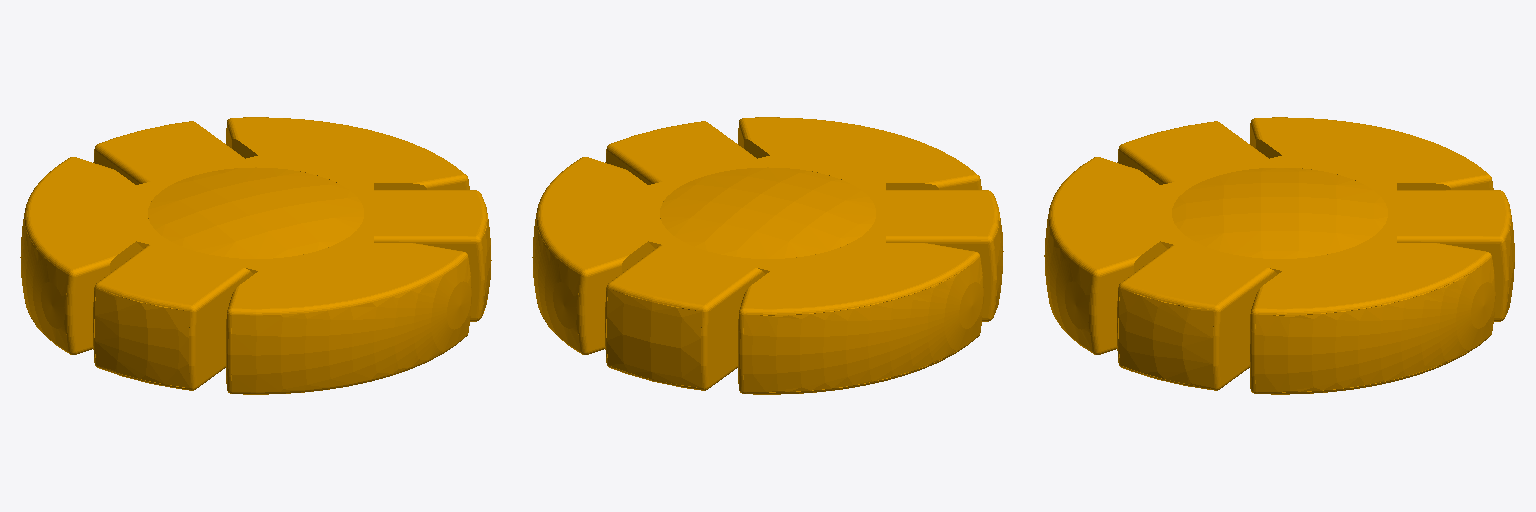
robot.urdf — hopter_simple:
<?xml version='1.0'?>
<robot name="hopter_simple">
	
	<link name='body'>
		<inertial>
			<origin xyz="0 0 0" rpy="0 0 0"/>
			<mass value="10.0"/>
			<inertia ixx="0.1" ixy="0.0" ixz="0.0" iyy="0.1" iyz="0.0" izz="0.1" />
		</inertial>
		<collision name='body_collision'>
			<origin xyz="0 0 0" rpy="0 0 0"/>
			<geometry>
				<mesh filename="package://galago_gazebo_models/meshes/hopter/disk.dae"/>
			</geometry>
		</collision>
		<visual name='body_visual'>
			<origin xyz="0 0 0" rpy="0 0 0"/>
			<geometry>
				<mesh filename="package://galago_gazebo_models/meshes/hopter/disk.dae"/>
			</geometry>
			<material name="orange"/>
		</visual>
		<gazebo>
			<static>false</static>
			<gravity>true</gravity>
			<self_collide>false</self_collide>
			<kinematic>false</kinematic>
			<velocity_decay>
				
				<linear>0.0</linear>
				<angular>0.0</angular>
			</velocity_decay>
			<max_contacts>250</max_contacts>
			<surface>
				<friction>
					<ode>
						<mu>0.2</mu>
						<mu2>0.2</mu2>
						<fdir1>1.0 0 0</fdir1>
						<slip1>0</slip1>
						<slip2>0</slip2>
					</ode>
				</friction>
				<contact>
					<ode>
						<kp>111.1111</kp>
						<kd>0.0</kd>
						<max_vel>10000.0</max_vel>
						<min_depth>0.0</min_depth>
					</ode>
				</contact>
			</surface>
		</gazebo>
	</link>
	
	
	<!--link name="cam_a_link">
		<visual>
			<origin xyz="0 0 0" rpy="0 0 0" />
			<geometry>
				<box size="0.1 0.1 0.1"/>
			</geometry>
			<material name="orange">
				<color rgba="0.8 0.2 0.2 1.0"/>
			</material>
		</visual>
	</link>
	
	<joint name="cam_a_joint" type="fixed">
		<origin rpy="0 0 3.1416" xyz="-0.5 0 0.5"/>
		<parent link="body"/>
		<child link="cam_a_link"/>
	</joint>
	
	<gazebo reference="cam_a_link">
		<sensor type="camera" name="camera_camera_sensor">
			<update_rate>30.0</update_rate>
			<camera>
				<pose>0 0 0 0 0 0</pose>
				<horizontal_fov>1.047</horizontal_fov>
				<image>
					<format>R8G8B8</format>
					<width>1024</width>
					<height>1024</height>
				</image>
				<clip>
					<near>0.01</near>
					<far>100</far>
				</clip>
			</camera>
			
			<plugin name="camera_camera_controller" filename="libgazebo_ros_camera.so">
				<alwaysOn>true</alwaysOn>
				<updateRate>30.0</updateRate>
				<cameraName>body_sensor/cam_a</cameraName>
				<imageTopicName>image_raw</imageTopicName>
				<cameraInfoTopicName>camera_info</cameraInfoTopicName>
				<frameName>cam_a</frameName>
				<robotNamespace>galago_simple</robotNamespace>
				<hackBaseline>0.07</hackBaseline>
				<distortionK1>0.0</distortionK1>
				<distortionK2>0.0</distortionK2>
				<distortionK3>0.0</distortionK3>
				<distortionT1>0.0</distortionT1>
				<distortionT2>0.0</distortionT2>
			</plugin>
		</sensor>
	</gazebo>
	
	<link name="cam_b_link">
		<visual>
			<origin xyz="0 0 0" rpy="0 0 0" />
			<geometry>
				<box size="0.1 0.1 0.1"/>
			</geometry>
			<material name="orange">
				<color rgba="0.8 0.2 0.2 1.0"/>
			</material>
		</visual>
	</link>
	
	<joint name="cam_b_joint" type="fixed">
		<origin rpy="0 0 -1.0472" xyz="0.25 -0.433 0.5"/>
		<parent link="body"/>
		<child link="cam_b_link"/>
	</joint>
	
	<gazebo reference="cam_b_link">
		<sensor type="camera" name="camera_camera_sensor">
			<update_rate>30.0</update_rate>
			<camera>
				<pose>0 0 0 0 0 0</pose>
				<horizontal_fov>1.047</horizontal_fov>
				<image>
					<format>R8G8B8</format>
					<width>1024</width>
					<height>1024</height>
				</image>
				<clip>
					<near>0.01</near>
					<far>100</far>
				</clip>
			</camera>
			
			<plugin name="camera_camera_controller" filename="libgazebo_ros_camera.so">
				<alwaysOn>true</alwaysOn>
				<updateRate>30.0</updateRate>
				<cameraName>body_sensor/cam_b</cameraName>
				<imageTopicName>image_raw</imageTopicName>
				<cameraInfoTopicName>camera_info</cameraInfoTopicName>
				<frameName>cam_b</frameName>
				<robotNamespace>galago_simple</robotNamespace>
				<hackBaseline>0.07</hackBaseline>
				<distortionK1>0.0</distortionK1>
				<distortionK2>0.0</distortionK2>
				<distortionK3>0.0</distortionK3>
				<distortionT1>0.0</distortionT1>
				<distortionT2>0.0</distortionT2>
			</plugin>
		</sensor>
	</gazebo>
	
	<link name="cam_c_link">
		<visual>
			<origin xyz="0 0 0" rpy="0 0 0" />
			<geometry>
				<box size="0.1 0.1 0.1"/>
			</geometry>
			<material name="orange">
				<color rgba="0.8 0.2 0.2 1.0"/>
			</material>
		</visual>
	</link>
	
	<joint name="cam_c_joint" type="fixed">
		<origin rpy="0 0 1.0472" xyz="0.25 0.433 0.5"/>
		<parent link="body"/>
		<child link="cam_c_link"/>
	</joint>
	
	<gazebo reference="cam_c_link">
		<sensor type="camera" name="camera_camera_sensor">
			<update_rate>30.0</update_rate>
			<camera>
				<pose>0 0 0 0 0 0</pose>
				<horizontal_fov>1.047</horizontal_fov>
				<image>
					<format>R8G8B8</format>
					<width>1024</width>
					<height>1024</height>
				</image>
				<clip>
					<near>0.01</near>
					<far>100</far>
				</clip>
			</camera>
			
			<plugin name="camera_camera_controller" filename="libgazebo_ros_camera.so">
				<alwaysOn>true</alwaysOn>
				<updateRate>30.0</updateRate>
				<cameraName>body_sensor/cam_c</cameraName>
				<imageTopicName>image_raw</imageTopicName>
				<cameraInfoTopicName>camera_info</cameraInfoTopicName>
				<frameName>cam_c</frameName>
				<robotNamespace>galago_simple</robotNamespace>
				<hackBaseline>0.07</hackBaseline>
				<distortionK1>0.0</distortionK1>
				<distortionK2>0.0</distortionK2>
				<distortionK3>0.0</distortionK3>
				<distortionT1>0.0</distortionT1>
				<distortionT2>0.0</distortionT2>
			</plugin>
		</sensor>
	</gazebo>
	
	<link name="cam_down_link">
		<visual>
			<origin xyz="0 0 0" rpy="0 0 0" />
			<geometry>
				<box size="0.1 0.1 0.1"/>
			</geometry>
			<material name="orange">
				<color rgba="0.8 0.2 0.2 1.0"/>
			</material>
		</visual>
	</link>
	
	<joint name="cam_down_joint" type="fixed">
		<origin rpy="0 1.57 0" xyz="0.0 0.0 0.5"/>
		<parent link="body"/>
		<child link="cam_down_link"/>
	</joint>
	
	<gazebo reference="cam_down_link">
		<sensor type="camera" name="camera_camera_sensor">
			<update_rate>30.0</update_rate>
			<camera>
				<pose>0 0 0 0 0 0</pose>
				<horizontal_fov>1.047</horizontal_fov>
				<image>
					<format>R8G8B8</format>
					<width>1024</width>
					<height>1024</height>
				</image>
				<clip>
					<near>0.01</near>
					<far>100</far>
				</clip>
			</camera>
			
			<plugin name="camera_camera_controller" filename="libgazebo_ros_camera.so">
				<alwaysOn>true</alwaysOn>
				<updateRate>30.0</updateRate>
				<cameraName>body_sensor/cam_down</cameraName>
				<imageTopicName>image_raw</imageTopicName>
				<cameraInfoTopicName>camera_info</cameraInfoTopicName>
				<robotNamespace>galago_simple</robotNamespace>
				<frameName>cam_down</frameName>
				<hackBaseline>0.07</hackBaseline>
				<distortionK1>0.0</distortionK1>
				<distortionK2>0.0</distortionK2>
				<distortionK3>0.0</distortionK3>
				<distortionT1>0.0</distortionT1>
				<distortionT2>0.0</distortionT2>
			</plugin>
		</sensor>
	</gazebo>
	
	<link name="cam_up_link">
		<visual>
			<origin xyz="0 0 0" rpy="0 0 0" />
			<geometry>
				<box size="0.1 0.1 0.1"/>
			</geometry>
			<material name="orange">
				<color rgba="0.8 0.2 0.2 1.0"/>
			</material>
		</visual>
	</link>
	
	<joint name="cam_up_joint" type="fixed">
		<origin rpy="0 -1.57 0" xyz="0.0 0.0 0.5"/>
		<parent link="body"/>
		<child link="cam_up_link"/>
	</joint>
	
	<gazebo reference="cam_up_link">
		<sensor type="camera" name="camera_camera_sensor">
			<update_rate>30.0</update_rate>
			<camera>
				<pose>0 0 0 0 0 0</pose>
				<horizontal_fov>1.047</horizontal_fov>
				<image>
					<format>R8G8B8</format>
					<width>1024</width>
					<height>1024</height>
				</image>
				<clip>
					<near>0.01</near>
					<far>100</far>
				</clip>
			</camera>
			
			<plugin name="camera_camera_controller" filename="libgazebo_ros_camera.so">
				<alwaysOn>true</alwaysOn>
				<updateRate>30.0</updateRate>
				<cameraName>body_sensor/cam_up</cameraName>
				<imageTopicName>image_raw</imageTopicName>
				<cameraInfoTopicName>camera_info</cameraInfoTopicName>
				<robotNamespace>galago_simple</robotNamespace>
				<frameName>cam_up</frameName>
				<hackBaseline>0.07</hackBaseline>
				<distortionK1>0.0</distortionK1>
				<distortionK2>0.0</distortionK2>
				<distortionK3>0.0</distortionK3>
				<distortionT1>0.0</distortionT1>
				<distortionT2>0.0</distortionT2>
			</plugin>
		</sensor>
	</gazebo>
	
	
	<gazebo>
		<plugin name="imu_plugin" filename="libgazebo_ros_imu.so">
			<alwaysOn>true</alwaysOn>
			<bodyName>body</bodyName>
			<topicName>imu_data</topicName>
			<serviceName>imu_service</serviceName>
			<gaussianNoise>0.0</gaussianNoise>
			<updateRate>30.0</updateRate>
			<xyzOffset>0 0 0</xyzOffset>
			<rpyOffset>0 0 0</rpyOffset>
			<frameName>world</frameName>
		</plugin>
	</gazebo>
	
	
	<gazebo>
		<plugin name="gazebo_ros_force" filename="libgazebo_ros_force.so">
			<alwaysOn>true</alwaysOn>
			<update>100</update>
			<updateRate>30.0</updateRate>
			<bodyName>body</bodyName>
			<topicName>force</topicName>
		</plugin>
	</gazebo-->
	
	<!-- stereo cam -->
	<!--gazebo reference="left_camera_frame"> <sensor type="multicamera" name="stereo_camera"> <update_rate>30.0</update_rate> <camera name="left"> <horizontal_fov>1.3962634</horizontal_fov> <image> <width>800</width> <height>800</height> <format>R8G8B8</format> </image> <clip> <near>0.02</near> <far>300</far> </clip> <noise> <type>gaussian</type> <mean>0.0</mean> <stddev>0.007</stddev> </noise> </camera> <camera name="right"> <pose>0 -0.07 0 0 0 0</pose> <horizontal_fov>1.3962634</horizontal_fov> <image> <width>800</width> <height>800</height> <format>R8G8B8</format> </image> <clip> <near>0.02</near> <far>300</far> </clip> <noise> <type>gaussian</type> <mean>0.0</mean> <stddev>0.007</stddev> </noise> </camera> <plugin name="stereo_camera_controller" filename="libgazebo_ros_multicamera.so"> <alwaysOn>true</alwaysOn> <updateRate>0.0</updateRate> <cameraName>multisense_sl/camera</cameraName> <imageTopicName>image_raw</imageTopicName> <cameraInfoTopicName>camera_info</cameraInfoTopicName> <frameName>left_camera_optical_frame</frameName>
		<<rightFrameName>right_camera_optical_frame</rightFrameName>> <hackBaseline>0.07</hackBaseline> <distortionK1>0.0</distortionK1> <distortionK2>0.0</distortionK2> <distortionK3>0.0</distortionK3> <distortionT1>0.0</distortionT1> <distortionT2>0.0</distortionT2> </plugin> </sensor> </gazebo-->
	
	<!-- depth cam - kinect -->
	<!--gazebo> <plugin name="${link_name}_controller" filename="libgazebo_ros_openni_kinect.so"> <baseline>0.2</baseline> <alwaysOn>true</alwaysOn> <updateRate>1.0</updateRate> <cameraName>${camera_name}_ir</cameraName> <imageTopicName>/${camera_name}/depth/image_raw</imageTopicName> <cameraInfoTopicName>/${camera_name}/depth/camera_info</cameraInfoTopicName> <depthImageTopicName>/${camera_name}/depth/image_raw</depthImageTopicName> <depthImageInfoTopicName>/${camera_name}/depth/camera_info</depthImageInfoTopicName> <pointCloudTopicName>/${camera_name}/depth/points</pointCloudTopicName> <frameName>${frame_name}</frameName> <pointCloudCutoff>0.5</pointCloudCutoff> <distortionK1>0.00000001</distortionK1> <distortionK2>0.00000001</distortionK2> <distortionK3>0.00000001</distortionK3> <distortionT1>0.00000001</distortionT1> <distortionT2>0.00000001</distortionT2> <CxPrime>0</CxPrime> <Cx>0</Cx> <Cy>0</Cy> <focalLength>0</focalLength> <hackBaseline>0</hackBaseline> </plugin> </gazebo-->
	
	<!-- laser - hokuyo -->
	<!--gazebo reference="hokuyo_link"> <sensor type="gpu_ray" name="head_hokuyo_sensor"> <pose>0 0 0 0 0 0</pose> <visualize>false</visualize> <update_rate>40</update_rate> <ray> <scan> <horizontal> <samples>720</samples> <resolution>1</resolution> <min_angle>-1.570796</min_angle> <max_angle>1.570796</max_angle> </horizontal> </scan> <range> <min>0.10</min> <max>30.0</max> <resolution>0.01</resolution> </range> <noise> <type>gaussian</type> <... Noise parameters based on published spec for Hokuyo laser achieving "+-30mm" accuracy at range < 10m. A mean of 0.0m and stddev of 0.01m will put 99.7% of samples within 0.03m of the true reading. ...> <mean>0.0</mean> <stddev>0.01</stddev> </noise> </ray> <plugin name="gazebo_ros_head_hokuyo_controller" filename="libgazebo_ros_gpu_laser.so"> <topicName>/rrbot/laser/scan</topicName> <frameName>hokuyo_link</frameName> </plugin> </sensor> </gazebo-->
	
	<!--ground truth-->
	<!--bumper for contacts-->
	
	<!--planar move?-->
	<!--Force-->
	<!--joint pose trajectory-->
	
	<!--projector/video-->
	
</robot>

--- Facts derived from the render (not from the file) ---
3 views of the same robot in one strip: view 1: azimuth 30°, elevation 25°; view 2: azimuth 150°, elevation 25°; view 3: azimuth 270°, elevation 25° (orthographic).
Model hopter_simple with 1 links and 0 joints (none), rooted at body, posed all joints at 0.
Links seen in each view (by area): view 1: body; view 2: body; view 3: body.
Link boxes in pixels (box(x1,y1,x2,y2)): body: box(20, 117, 491, 394); body: box(532, 117, 1003, 394); body: box(1044, 117, 1514, 394).
Bounding box of the posed robot: 39.99 × 40 × 9.61 m (x, y, z).
Meshes: 1 distinct files referenced, 1 mesh visuals loaded (1 Collada DAE).
